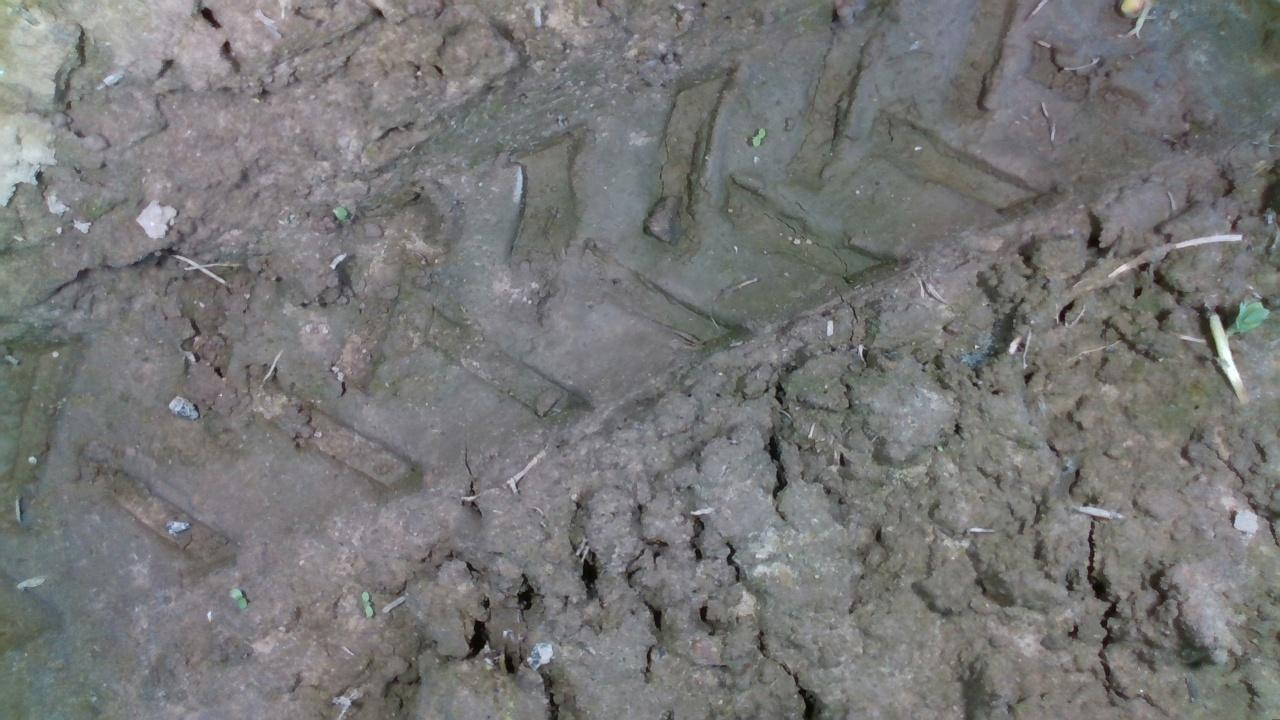weed: (357, 587, 373, 619), (227, 585, 247, 609), (752, 126, 765, 147)
